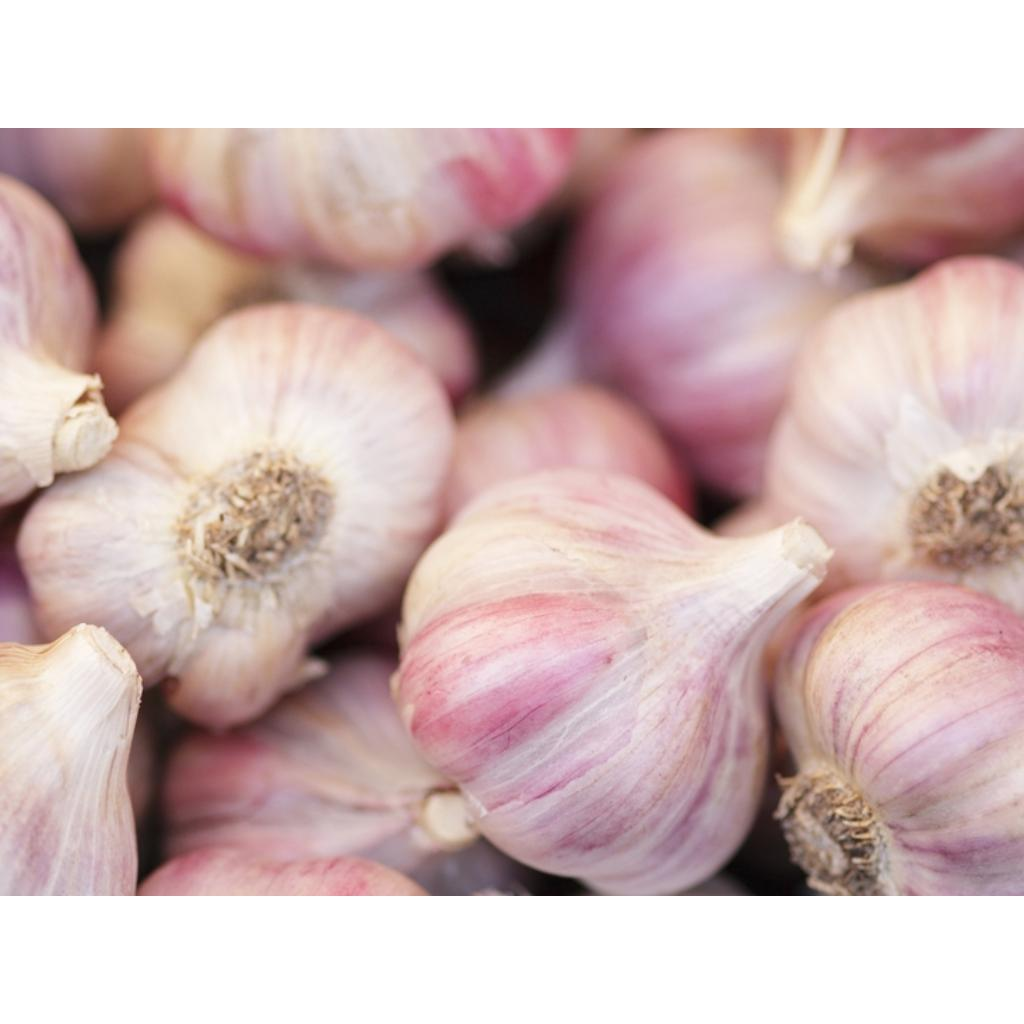garlic: (0, 128, 635, 469), (392, 468, 828, 890), (17, 304, 450, 725), (723, 257, 1021, 611), (774, 580, 1021, 892), (772, 128, 1021, 282), (0, 623, 138, 892), (220, 304, 390, 348)
